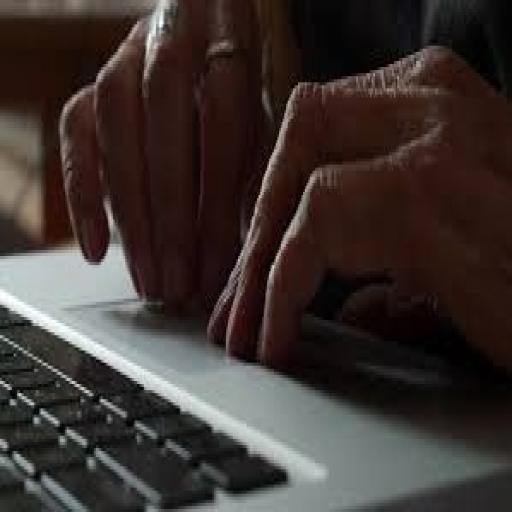using_laptop: (7, 24, 510, 512)
